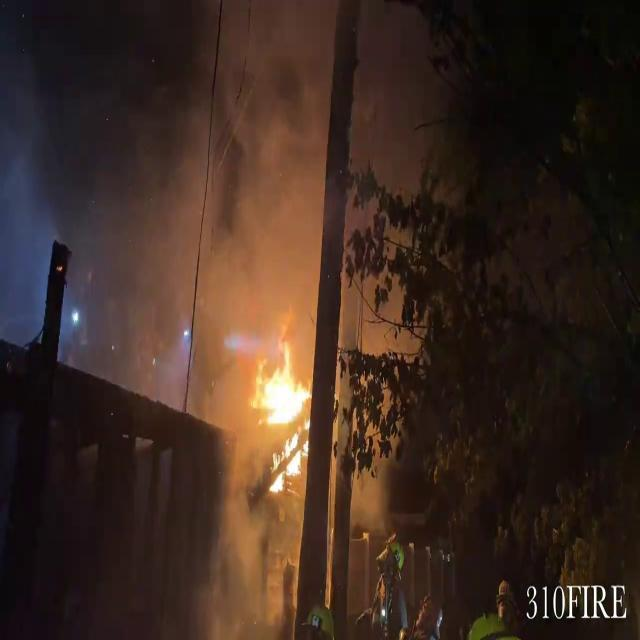Fire: (254, 336, 312, 500)
